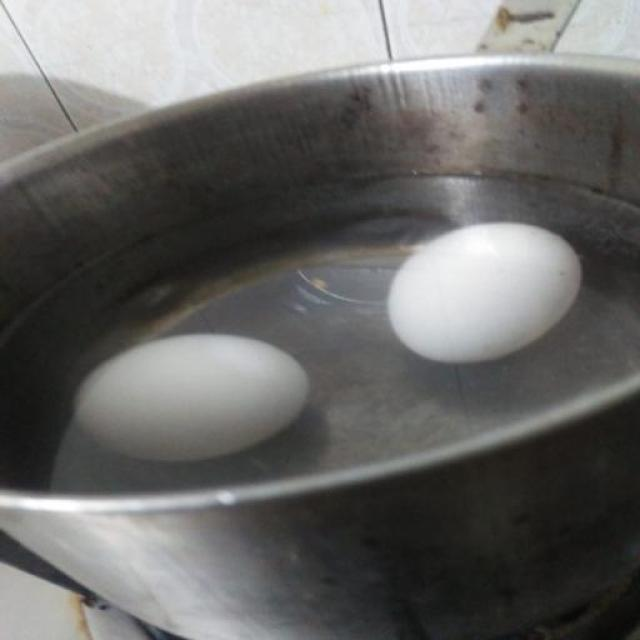telur: (76, 332, 310, 464), (387, 221, 580, 366)
